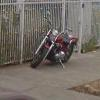Motorcycle: (21, 14, 86, 71)
